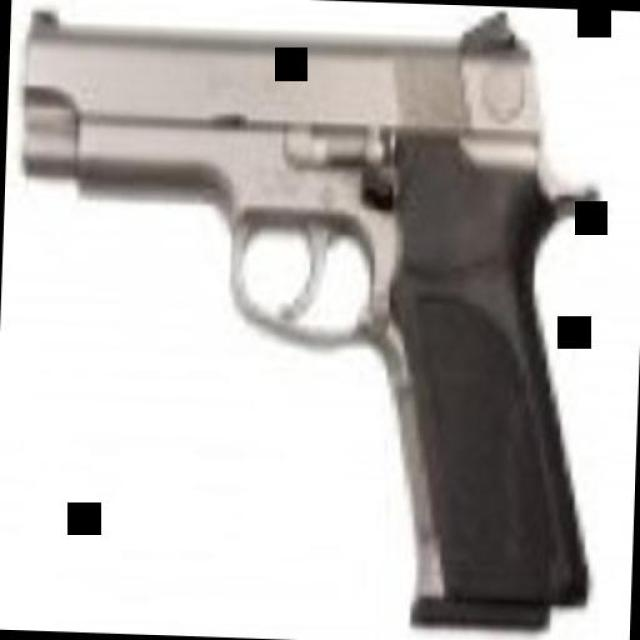gun: (2, 2, 612, 640)
